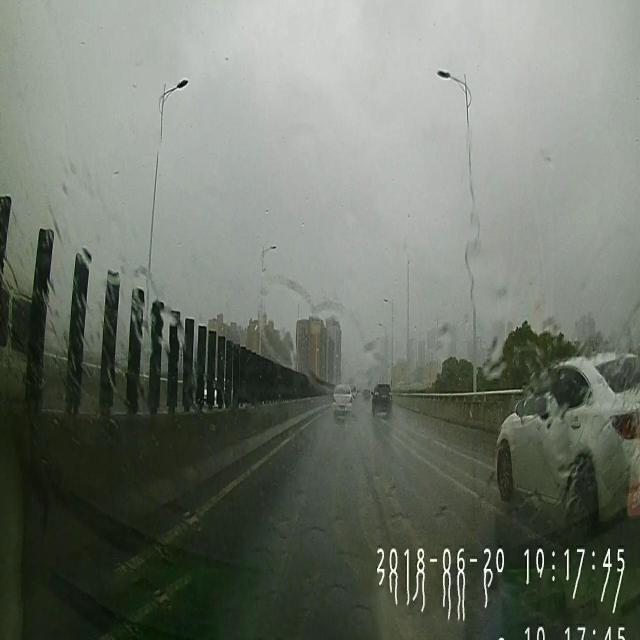car: (496, 348, 640, 532), (370, 382, 392, 421), (332, 384, 352, 420)
